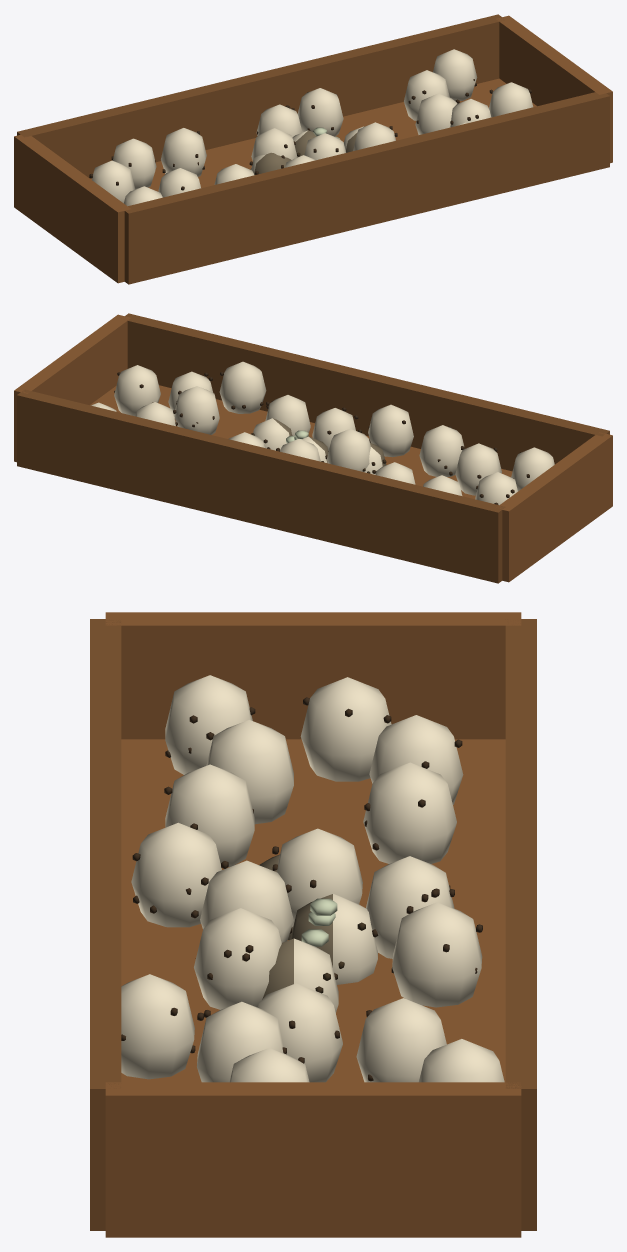
Rendered from Ranch_QuailEgg.fbx.
The picture shows the model from 3 angles, top to bottom: view 1: azimuth 30°, elevation 25°; view 2: azimuth 150°, elevation 25°; view 3: azimuth 270°, elevation 25°; orthographic projection. The views are drawn at different scales.
Visible parts, largest first — view 1: Ranch_QuailEgg__Stack, Ranch_QuailEgg__Rotten; view 2: Ranch_QuailEgg__Stack, Ranch_QuailEgg, Ranch_QuailEgg__Rotten; view 3: Ranch_QuailEgg__Stack, Ranch_QuailEgg, Ranch_QuailEgg__Rotten.
Boxes of the visible parts, x1=… form: Ranch_QuailEgg__Stack: x1=14, y1=14, x2=612, y2=284; Ranch_QuailEgg__Rotten: x1=250, y1=126, x2=364, y2=174; Ranch_QuailEgg__Stack: x1=14, y1=313, x2=612, y2=583; Ranch_QuailEgg: x1=253, y1=418, x2=386, y2=474; Ranch_QuailEgg__Rotten: x1=251, y1=418, x2=386, y2=473; Ranch_QuailEgg__Stack: x1=90, y1=612, x2=536, y2=1237; Ranch_QuailEgg: x1=294, y1=894, x2=378, y2=1012; Ranch_QuailEgg__Rotten: x1=259, y1=854, x2=365, y2=999.
Bounding box in the file's own units: 0.292 × 0.04 × 0.1142.
